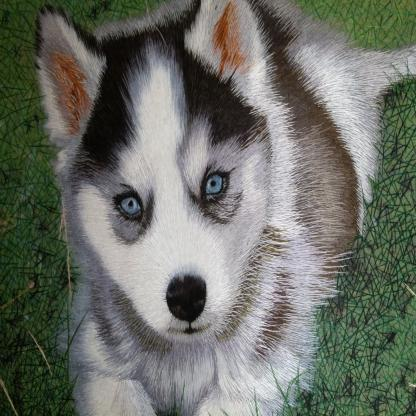dog: (29, 4, 416, 416)
